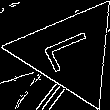L_NE: (37, 28, 102, 77)
